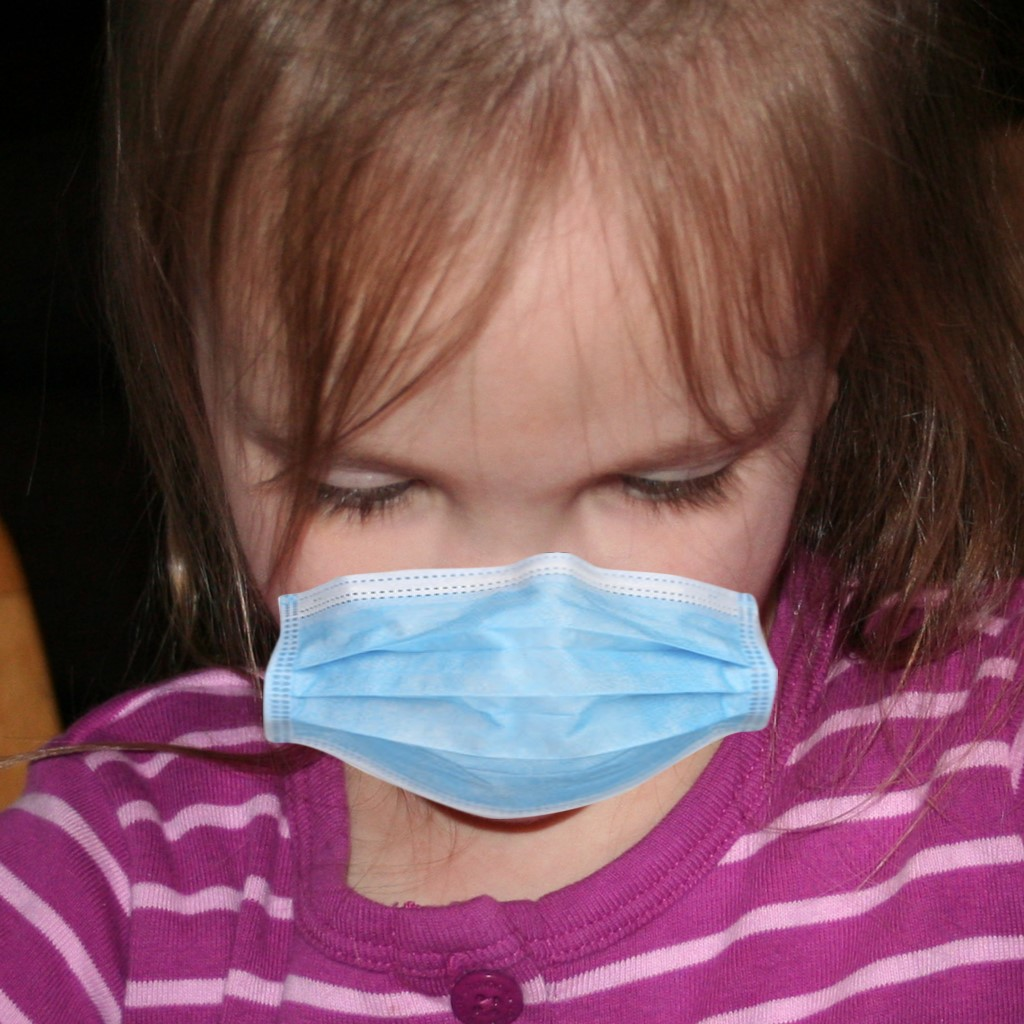con_mascara: (170, 66, 817, 836)
